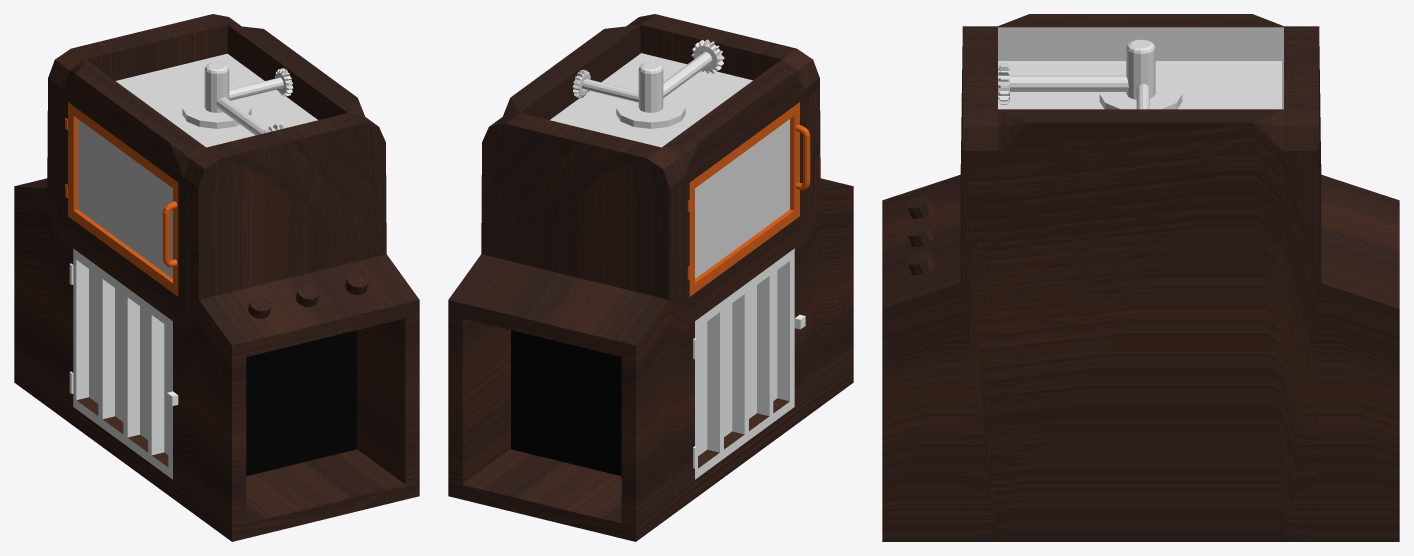
Rendered from Maquina trituradora .fbx.
3 views of the same model, side by side, from view 1: azimuth 30°, elevation 25°; view 2: azimuth 150°, elevation 25°; view 3: azimuth 270°, elevation 25° (orthographic). The views are drawn at different scales.
Visible parts, largest first — view 1: Cube, Aplastadora.001, Aplastadora, Cylinder.003, Cylinder.004; view 2: Cube, Aplastadora.001, Aplastadora, Cylinder.004, Cylinder.003; view 3: Cube, Aplastadora.001, Aplastadora, Cylinder.004.
Part boxes in pixels (left/top/right/bottom): Cube: left=14, top=14, right=419, bottom=541; Aplastadora.001: left=116, top=53, right=317, bottom=147; Aplastadora: left=182, top=62, right=251, bottom=128; Cylinder.003: left=229, top=68, right=293, bottom=100; Cylinder.004: left=216, top=97, right=286, bottom=135; Cube: left=448, top=14, right=853, bottom=541; Aplastadora.001: left=550, top=53, right=752, bottom=147; Aplastadora: left=616, top=62, right=685, bottom=128; Cylinder.004: left=663, top=39, right=724, bottom=97; Cylinder.003: left=572, top=69, right=638, bottom=102; Cube: left=882, top=14, right=1399, bottom=541; Aplastadora.001: left=998, top=61, right=1281, bottom=109; Aplastadora: left=1099, top=39, right=1182, bottom=109; Cylinder.004: left=998, top=63, right=1128, bottom=104.
Size of the model in its own units: 151 by 269 by 284.
